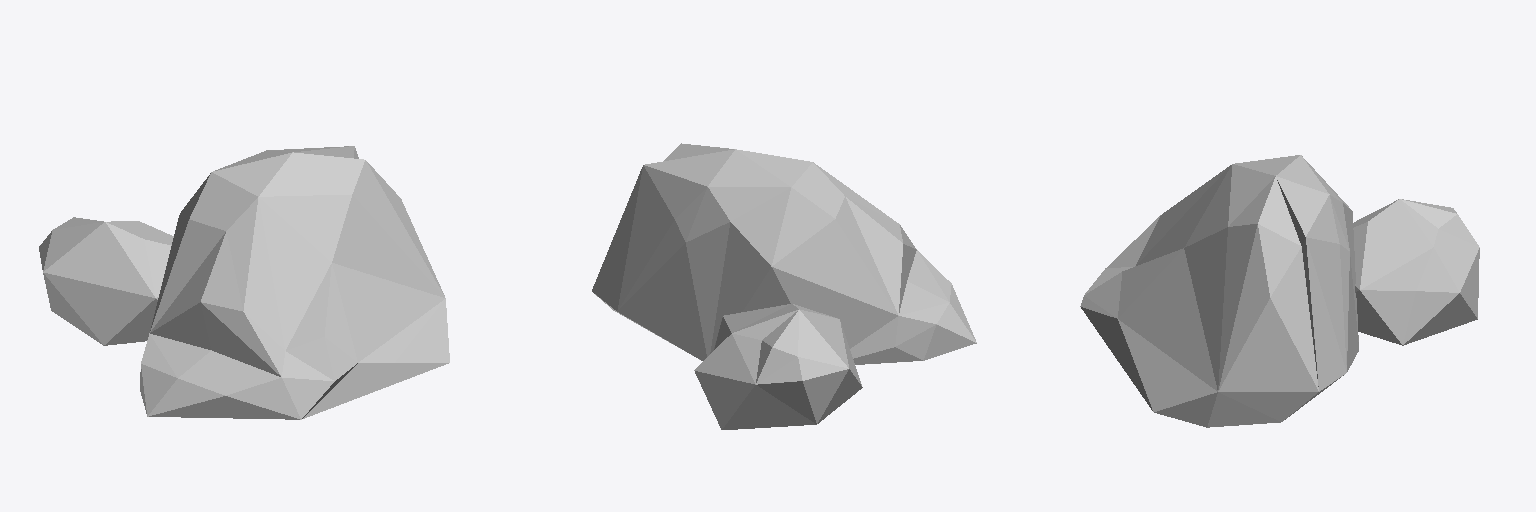
Rendered from small-rocksArray.obj.
The picture shows the model from 3 angles: view 1: azimuth 30°, elevation 25°; view 2: azimuth 150°, elevation 25°; view 3: azimuth 270°, elevation 25°; orthographic projection.
Visible parts, largest first — view 1: Icosphere.002; view 2: Icosphere.002; view 3: Icosphere.002.
Boxes of the visible parts, x1=… form: Icosphere.002: x1=39, y1=146, x2=449, y2=419; Icosphere.002: x1=592, y1=143, x2=976, y2=429; Icosphere.002: x1=1080, y1=155, x2=1479, y2=427.
Bounding box in the file's own units: 3.9 × 2.27 × 4.25.